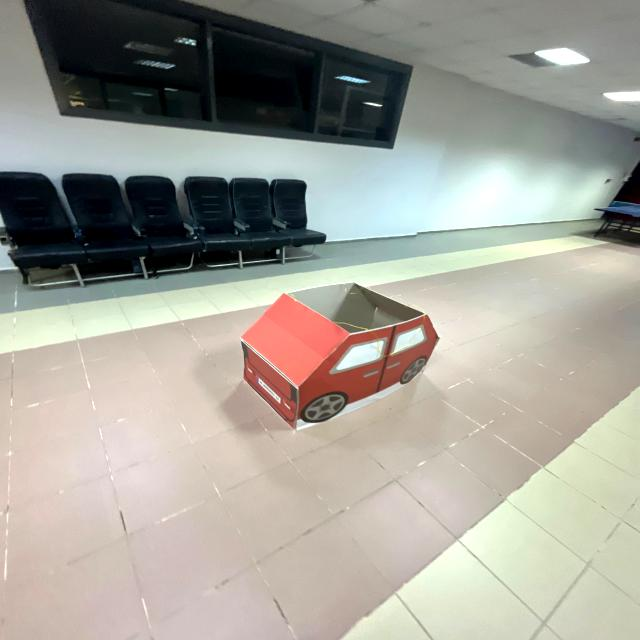red_car: (231, 275, 446, 458)
